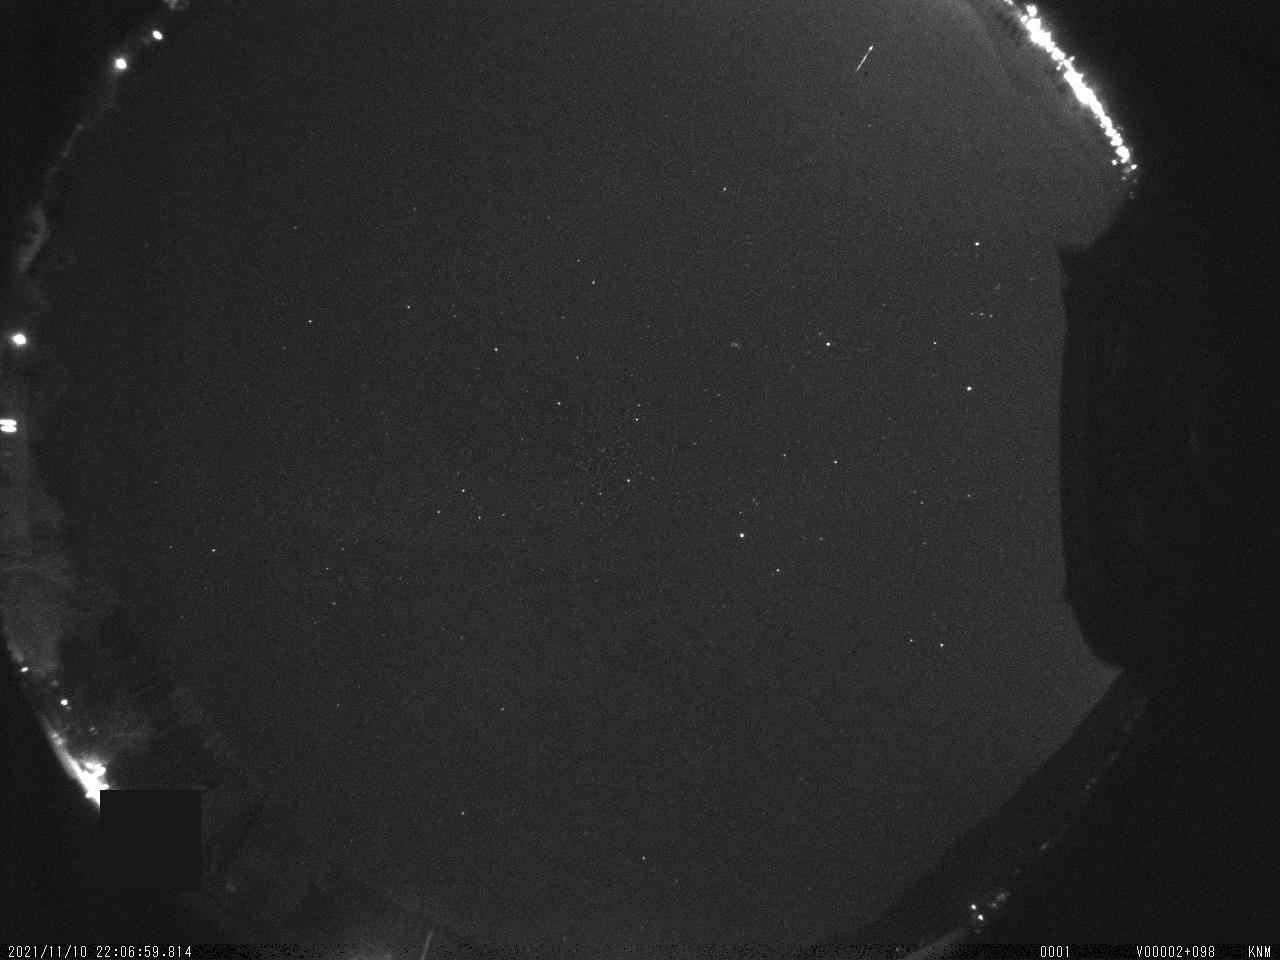meteor: (851, 37, 878, 76)
